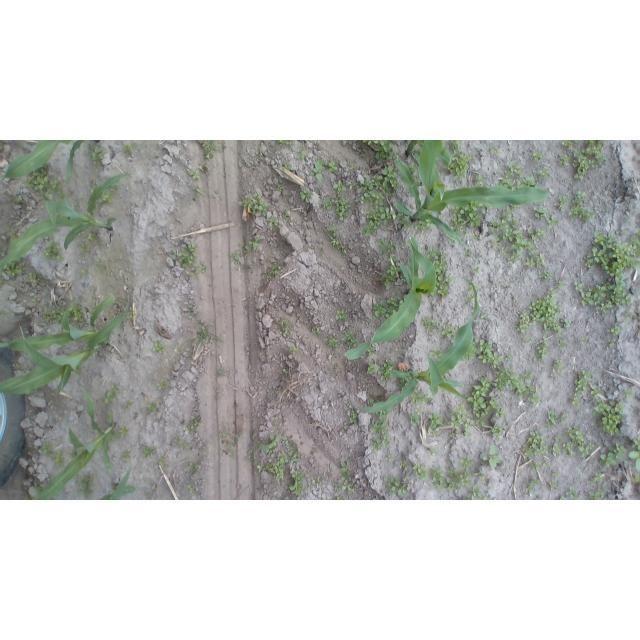Maize: (358, 277, 478, 411), (393, 141, 549, 243), (0, 293, 130, 400), (2, 173, 131, 272), (346, 235, 439, 359), (33, 392, 119, 500), (2, 140, 70, 174), (406, 141, 453, 166), (100, 468, 134, 501), (67, 140, 86, 181)
Weeds: (468, 367, 539, 418), (487, 209, 546, 260), (584, 230, 640, 279), (591, 386, 633, 436), (357, 175, 389, 237), (516, 287, 560, 332), (575, 281, 637, 312), (362, 141, 399, 188), (431, 456, 475, 488), (572, 140, 605, 180), (428, 246, 452, 296), (26, 171, 63, 202), (447, 403, 478, 438), (563, 425, 595, 458), (450, 204, 487, 232), (499, 164, 535, 189), (370, 412, 391, 452), (259, 452, 287, 482), (333, 180, 352, 222), (475, 338, 501, 368), (598, 441, 624, 469), (572, 369, 590, 408), (171, 242, 198, 268), (237, 191, 268, 213), (523, 429, 548, 456), (450, 152, 471, 184), (335, 466, 354, 500), (481, 443, 504, 471), (570, 191, 594, 217), (74, 469, 95, 496), (375, 266, 400, 288), (196, 140, 223, 160), (371, 297, 400, 315), (325, 226, 344, 253), (227, 246, 249, 269), (288, 470, 306, 498), (102, 383, 122, 406), (387, 476, 408, 497), (533, 337, 550, 362), (283, 438, 301, 461), (631, 428, 640, 472), (546, 409, 566, 428), (264, 259, 283, 278), (430, 410, 445, 434), (43, 244, 63, 261), (525, 255, 546, 271), (550, 431, 562, 459), (261, 433, 279, 451), (346, 402, 361, 423), (169, 438, 193, 451), (490, 423, 509, 439), (145, 402, 164, 418), (186, 415, 202, 433), (375, 239, 393, 255), (421, 316, 436, 335), (248, 234, 264, 251), (414, 461, 429, 479), (277, 317, 292, 335), (40, 310, 60, 323), (311, 161, 324, 181), (394, 212, 410, 228), (70, 304, 85, 321), (378, 360, 392, 378), (298, 187, 312, 205), (525, 460, 552, 469), (141, 444, 156, 460), (6, 266, 26, 278), (553, 196, 567, 213), (223, 439, 236, 457), (441, 323, 456, 338), (196, 323, 210, 339), (152, 340, 165, 357), (419, 392, 434, 406), (90, 146, 104, 161), (265, 214, 279, 229), (192, 259, 207, 273), (544, 213, 558, 228), (526, 476, 539, 492), (38, 442, 52, 456), (53, 451, 66, 466), (587, 490, 606, 500), (469, 486, 483, 499), (100, 192, 113, 206), (532, 203, 545, 217), (328, 336, 340, 351), (120, 450, 133, 463), (553, 359, 564, 374), (122, 143, 138, 153), (343, 333, 355, 346), (77, 242, 90, 254), (189, 463, 200, 477), (558, 153, 569, 167), (561, 141, 580, 149), (366, 359, 374, 377), (416, 220, 432, 229), (188, 168, 201, 179), (467, 347, 478, 360), (335, 310, 349, 320), (428, 349, 442, 359), (594, 472, 606, 483), (321, 198, 332, 210), (538, 167, 550, 178), (219, 424, 230, 436), (475, 471, 489, 480), (27, 273, 38, 284), (398, 459, 409, 470), (609, 325, 620, 336), (118, 423, 128, 435), (532, 150, 542, 162), (566, 489, 579, 498), (489, 148, 502, 157), (278, 140, 297, 146), (561, 317, 571, 328), (540, 271, 551, 281), (329, 161, 339, 172), (156, 380, 166, 391), (449, 141, 459, 152), (281, 211, 291, 222), (313, 475, 322, 487), (192, 185, 202, 195), (408, 416, 418, 426), (290, 347, 301, 356), (9, 231, 19, 240), (159, 457, 168, 467), (522, 336, 533, 344), (476, 253, 483, 265), (14, 195, 23, 204), (475, 177, 484, 186), (580, 336, 589, 345), (295, 150, 304, 159), (188, 483, 196, 493), (549, 468, 559, 476), (217, 364, 225, 374), (87, 232, 98, 239), (285, 161, 293, 170), (466, 250, 474, 259), (632, 475, 640, 484), (556, 338, 564, 347), (609, 339, 617, 348), (30, 297, 40, 304), (500, 283, 513, 288), (126, 310, 134, 318), (126, 401, 135, 408), (244, 455, 254, 461), (311, 329, 318, 336), (534, 494, 542, 500), (81, 269, 89, 275), (549, 481, 556, 487), (386, 453, 392, 460), (279, 183, 286, 189), (555, 279, 562, 285), (480, 314, 488, 319), (472, 267, 478, 273), (467, 286, 473, 292), (467, 296, 473, 301), (283, 369, 289, 374), (96, 258, 103, 262), (560, 496, 567, 500)
